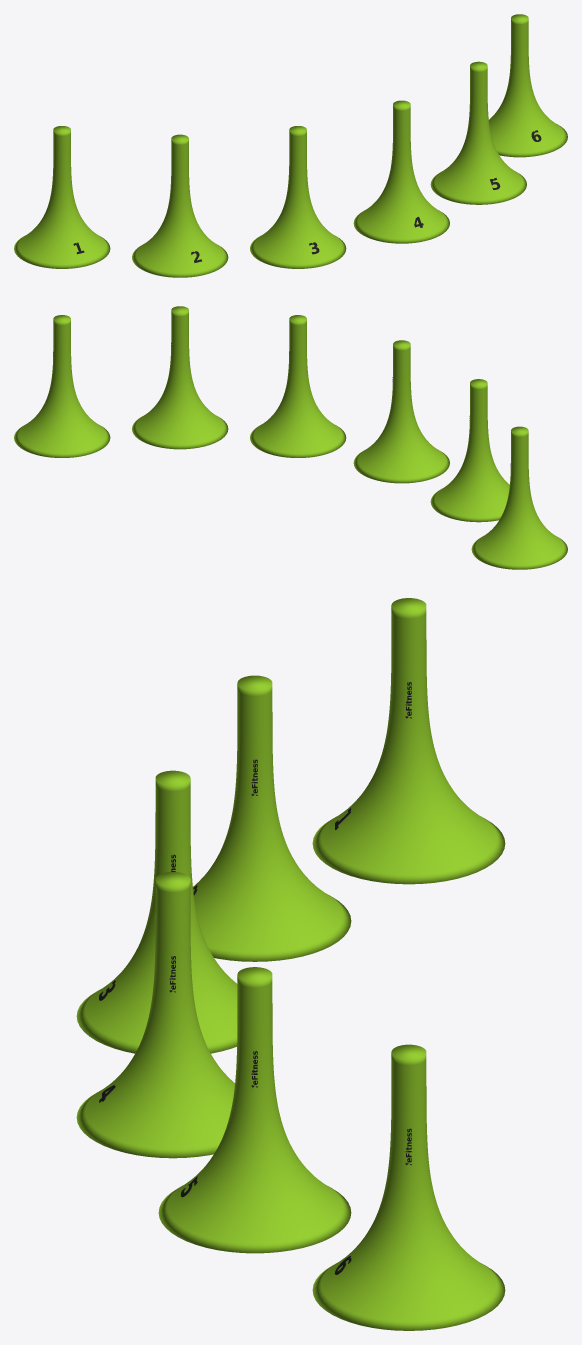
Rendered from life-fitness-speed-cones-set-of-6_v003.glb.
3 renders of one model, top to bottom at view 1: azimuth 30°, elevation 25°; view 2: azimuth 150°, elevation 25°; view 3: azimuth 270°, elevation 25°, orthographic. The views are drawn at different scales.
Parts seen in each view (by area): view 1: life-fitness-speed-cones-set-of-6_lime, life-fitness-speed-cones-set-of-6_ink; view 2: life-fitness-speed-cones-set-of-6_lime; view 3: life-fitness-speed-cones-set-of-6_lime, life-fitness-speed-cones-set-of-6_ink.
Boxes of the visible parts, <box> form: life-fitness-speed-cones-set-of-6_lime: <box>14,14,567,277</box>; life-fitness-speed-cones-set-of-6_ink: <box>73,130,541,262</box>; life-fitness-speed-cones-set-of-6_lime: <box>14,306,567,569</box>; life-fitness-speed-cones-set-of-6_lime: <box>76,598,505,1330</box>; life-fitness-speed-cones-set-of-6_ink: <box>99,682,411,1274</box>.
Size of the model in its own units: 1.09 by 0.2286 by 0.3729.
